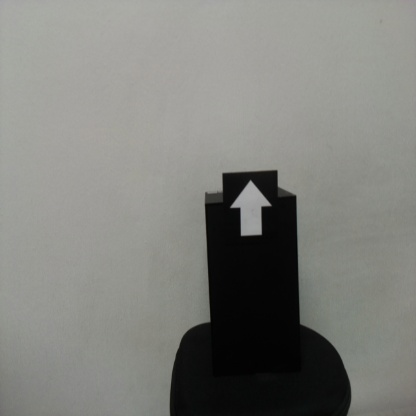id_1: (222, 173, 279, 250)
